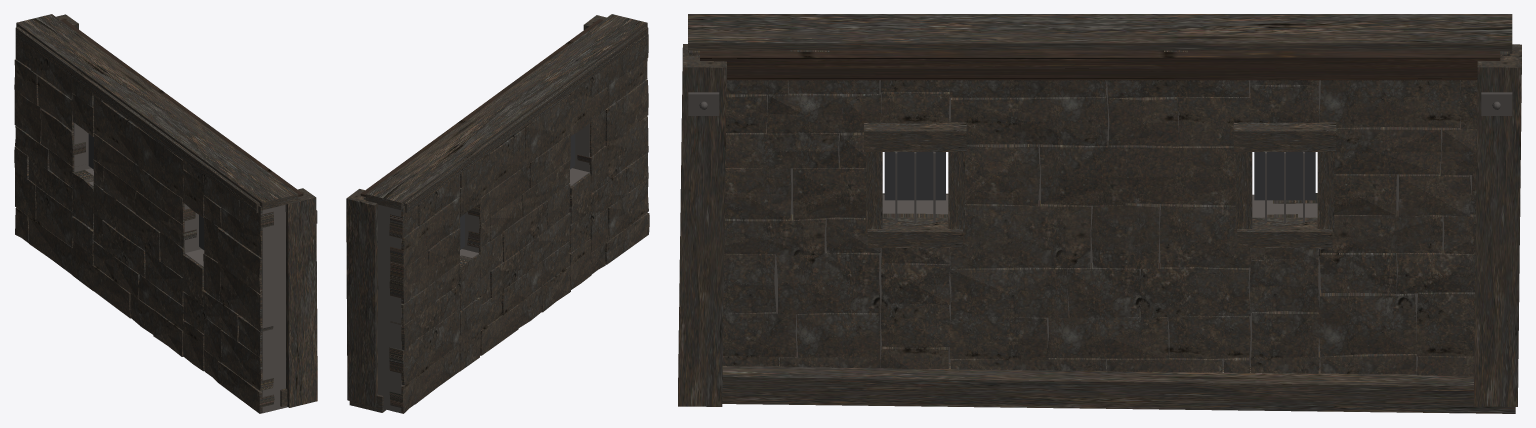
File: wall_right_preview.glb
3 views of the same model, side by side, from view 1: azimuth 30°, elevation 25°; view 2: azimuth 150°, elevation 25°; view 3: azimuth 270°, elevation 25° (orthographic). The views are drawn at different scales.
Visible parts, largest first — view 1: GENESIS_BATCH_Quarry basalt / dark warm PBR, GENESIS_BATCH_Soot deposits - char and oxide, GENESIS_BATCH_Basalt - mineral warm variance, GENESIS_BATCH_Blackened ironstone coping / dark scanned, GENESIS_BATCH_Recessed stone mortar / dark, GENESIS_BATCH_Oak / fire seasoned PBR, GENESIS_BATCH_Blacksmith · soot-stained grille backgroun; view 2: GENESIS_BATCH_Quarry basalt / dark warm PBR, GENESIS_BATCH_Soot deposits - char and oxide, GENESIS_BATCH_Basalt - mineral warm variance, GENESIS_BATCH_Blackened ironstone coping / dark scanned, GENESIS_BATCH_Recessed stone mortar / dark, GENESIS_BATCH_Oak / fire seasoned PBR, GENESIS_BATCH_Blacksmith · soot-stained grille backgroun; view 3: GENESIS_BATCH_Basalt - mineral warm variance, GENESIS_BATCH_Quarry basalt / dark warm PBR, GENESIS_BATCH_Soot deposits - char and oxide, GENESIS_BATCH_Blackened ironstone coping / dark scanned, GENESIS_BATCH_Oak / fire seasoned PBR, GENESIS_BATCH_Blacksmith · soot-stained grille backgroun, GENESIS_BATCH_Recessed stone mortar / dark, GENESIS_BATCH_Oxidized forged iron.
Part boxes in pixels (x1,y1,x2,y2): GENESIS_BATCH_Quarry basalt / dark warm PBR: (14, 48, 300, 413); GENESIS_BATCH_Soot deposits - char and oxide: (15, 78, 273, 356); GENESIS_BATCH_Basalt - mineral warm variance: (15, 14, 317, 407); GENESIS_BATCH_Blackened ironstone coping / dark scanned: (15, 14, 298, 212); GENESIS_BATCH_Recessed stone mortar / dark: (73, 123, 287, 413); GENESIS_BATCH_Oak / fire seasoned PBR: (60, 19, 303, 196); GENESIS_BATCH_Blacksmith · soot-stained grille backgroun: (88, 134, 204, 249); GENESIS_BATCH_Quarry basalt / dark warm PBR: (389, 79, 649, 413); GENESIS_BATCH_Soot deposits - char and oxide: (377, 28, 648, 404); GENESIS_BATCH_Basalt - mineral warm variance: (346, 15, 648, 412); GENESIS_BATCH_Blackened ironstone coping / dark scanned: (365, 14, 647, 212); GENESIS_BATCH_Recessed stone mortar / dark: (378, 123, 589, 412); GENESIS_BATCH_Oak / fire seasoned PBR: (360, 19, 602, 196); GENESIS_BATCH_Blacksmith · soot-stained grille backgroun: (459, 134, 575, 249); GENESIS_BATCH_Basalt - mineral warm variance: (678, 44, 1521, 413); GENESIS_BATCH_Quarry basalt / dark warm PBR: (689, 50, 1477, 373); GENESIS_BATCH_Soot deposits - char and oxide: (723, 50, 1476, 376); GENESIS_BATCH_Blackened ironstone coping / dark scanned: (688, 14, 1512, 53); GENESIS_BATCH_Oak / fire seasoned PBR: (700, 50, 1500, 80); GENESIS_BATCH_Blacksmith · soot-stained grille backgroun: (884, 152, 1315, 200); GENESIS_BATCH_Recessed stone mortar / dark: (766, 80, 1471, 368); GENESIS_BATCH_Oxidized forged iron: (688, 92, 1512, 222).
Size of the model in its own units: 0.9862 by 3.32 by 7.08.
8 materials, 5 textured.
